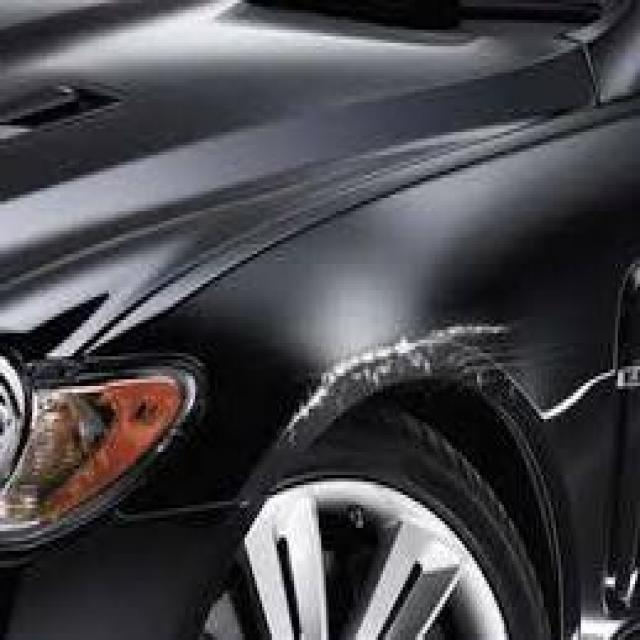scratch: (273, 305, 518, 457)
